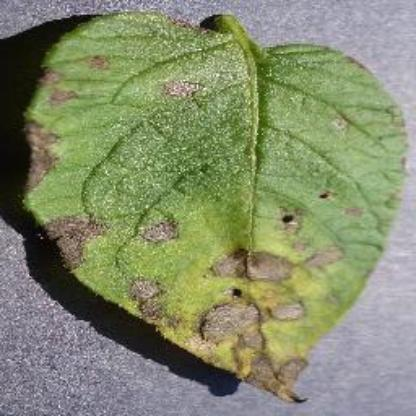Early-Blight: (19, 1, 416, 407)
